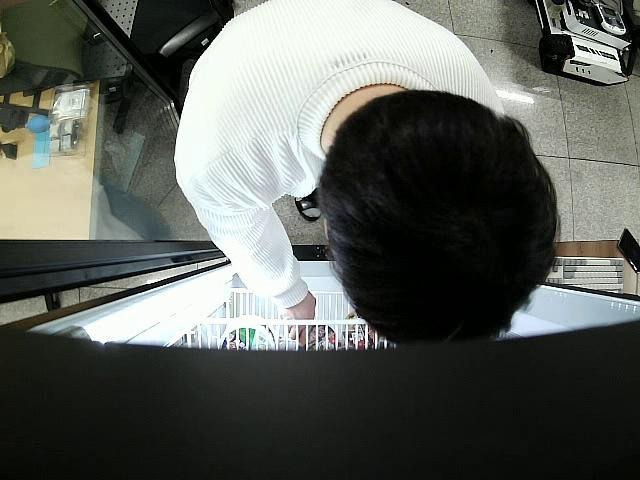08_buldak_S: (302, 321, 339, 352)
